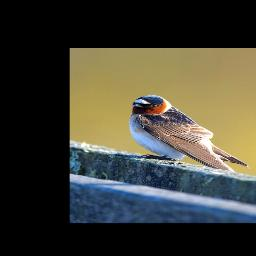Swallow: (128, 95, 250, 175)
